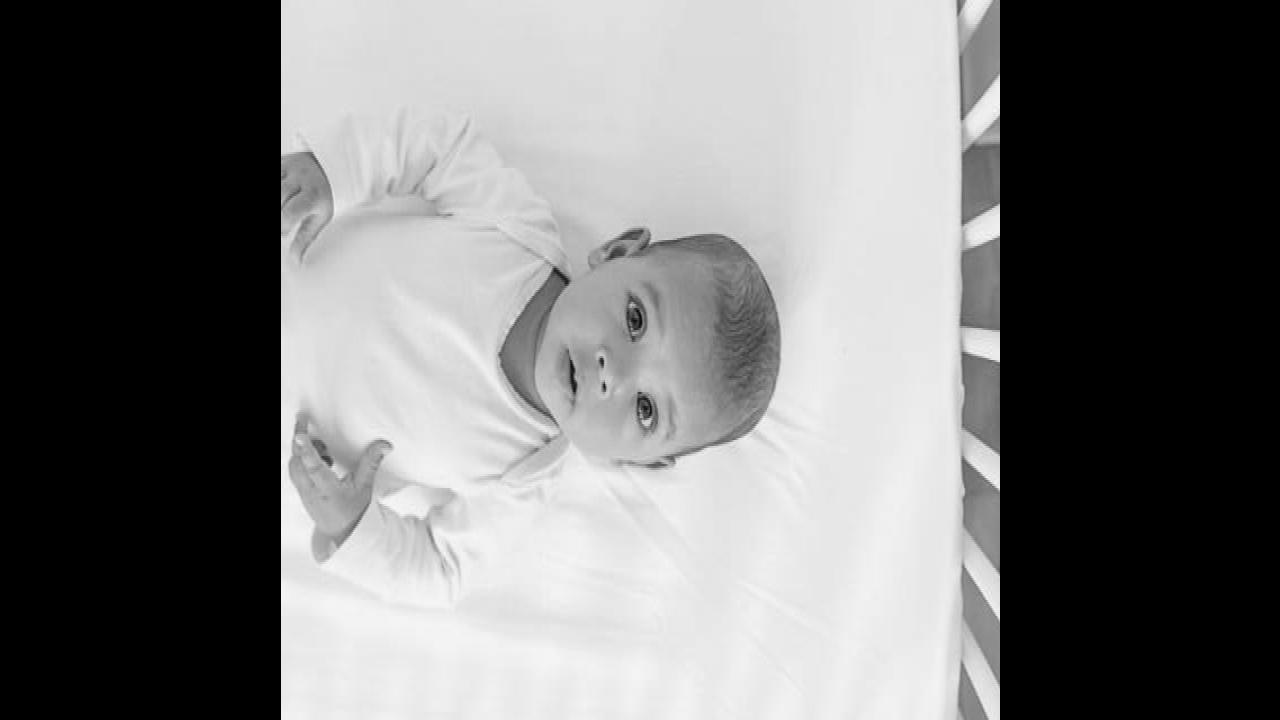hand: (286, 428, 391, 540), (280, 146, 335, 262)
